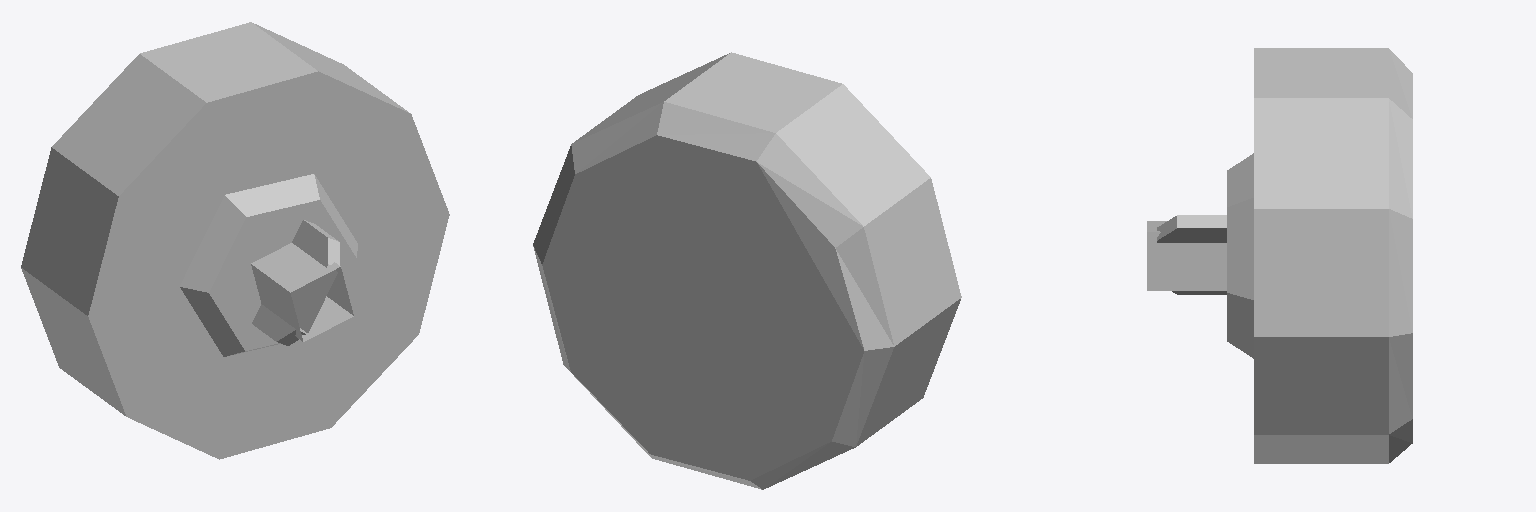
File: wheel100.obj
3 renders of one model, left to right at view 1: azimuth 30°, elevation 25°; view 2: azimuth 150°, elevation 25°; view 3: azimuth 270°, elevation 25°, orthographic.
Parts seen in each view (by area): view 1: wheel_low_textures; view 2: wheel_low_textures; view 3: wheel_low_textures.
Boxes of the visible parts, x1=… form: wheel_low_textures: x1=21, y1=22, x2=449, y2=459; wheel_low_textures: x1=533, y1=52, x2=961, y2=489; wheel_low_textures: x1=1147, y1=48, x2=1412, y2=463.
Size of the model in its own units: 1.56 by 1.5 by 0.9907.